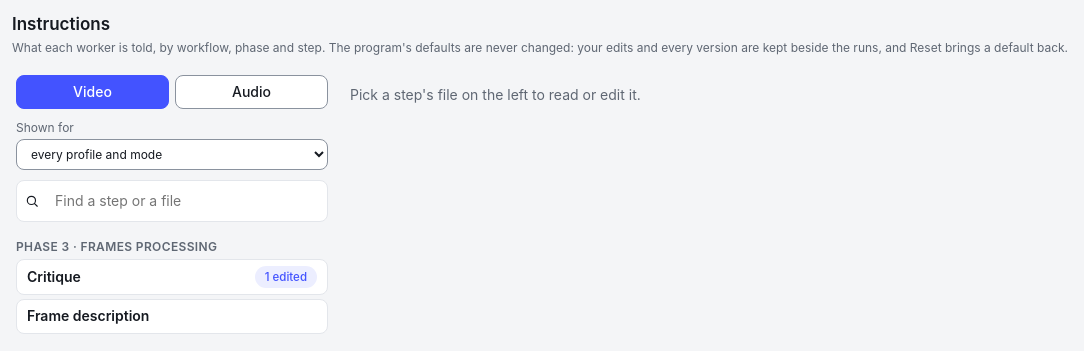
Test: Instructions › lists another workflow's steps, and hides a step a chosen profile does not send
This screenshot has width=1084, height=351.
Expected: the text "Frame description" is shown, [27,306,149,327]
Select "quality" in the dropdown at (172, 154), box [16,139,328,170]
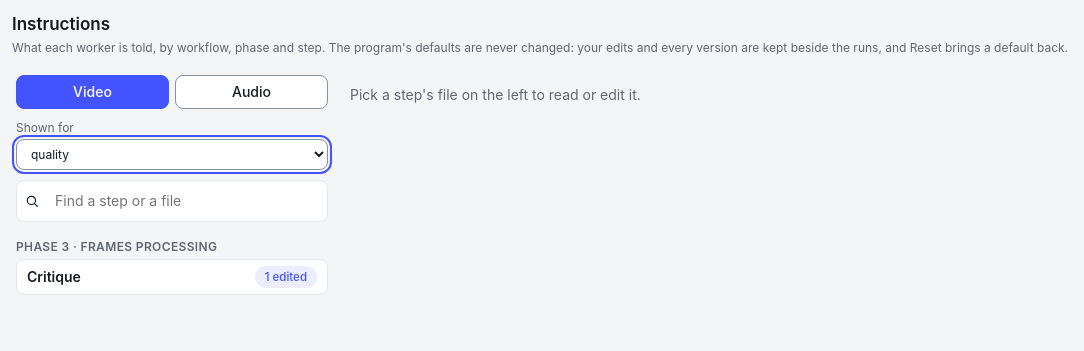
Expected: the heading "Frame description" is gone
Type "nothing like this" into the search field labelled "Find a step or a file" at (182, 201), box [45,185,319,217]
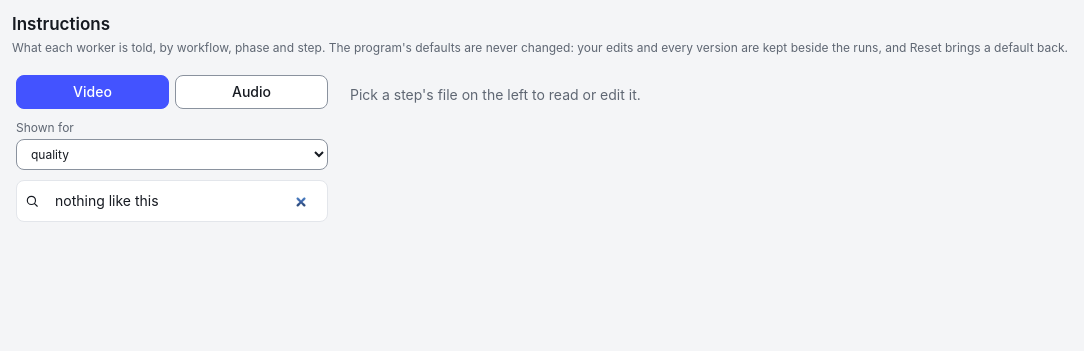
Expected: the heading "Critique" is gone
Clear the search field named "Find a step or a file" at (182, 201), box [45,185,319,217]
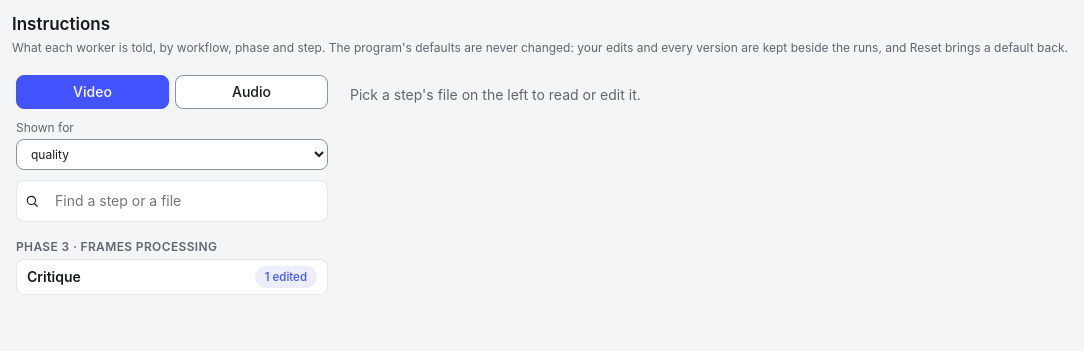
Click the tab "Audio" at (252, 92), box [175,75,328,109]
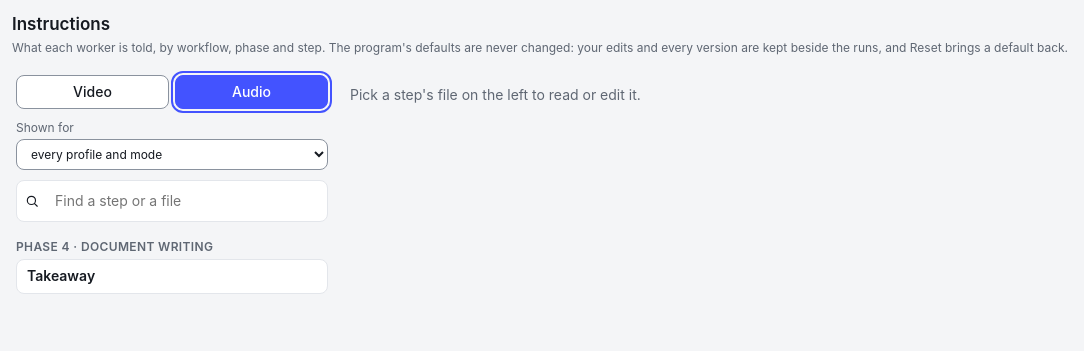
Expected: the heading "Phase 4 · document writing" is shown, [16,239,213,254]
